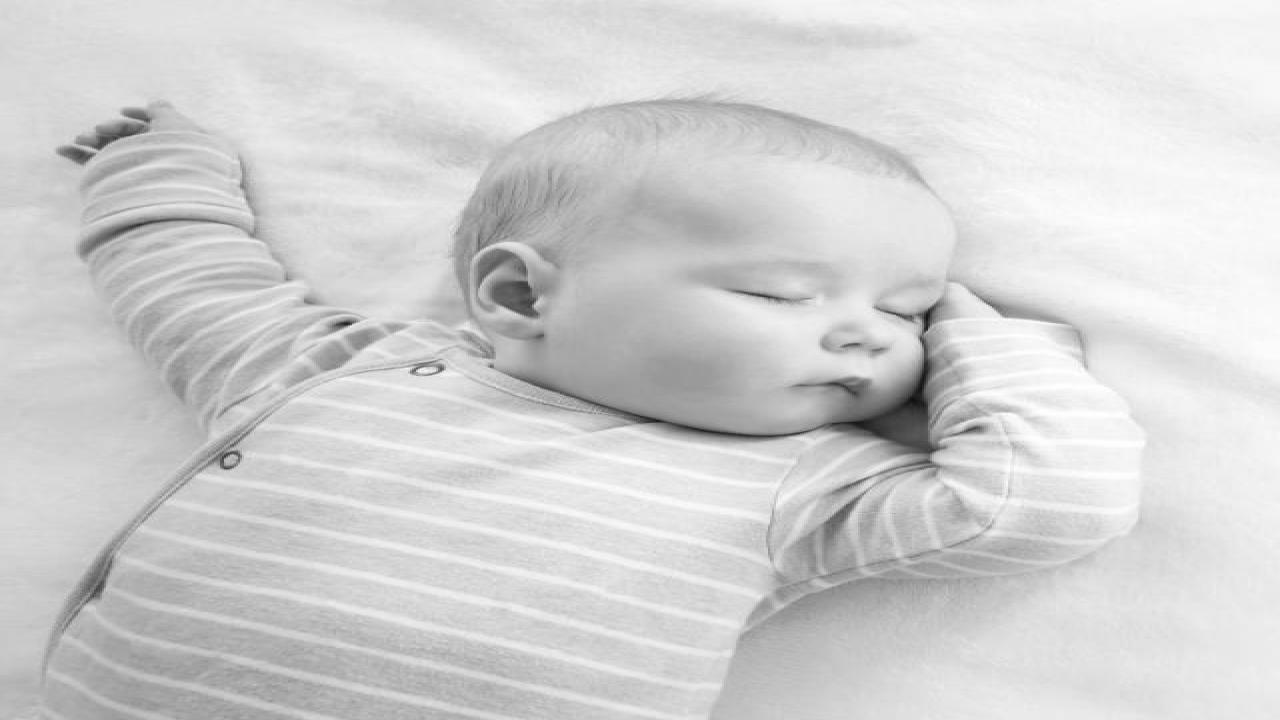hand: (60, 102, 217, 164)
